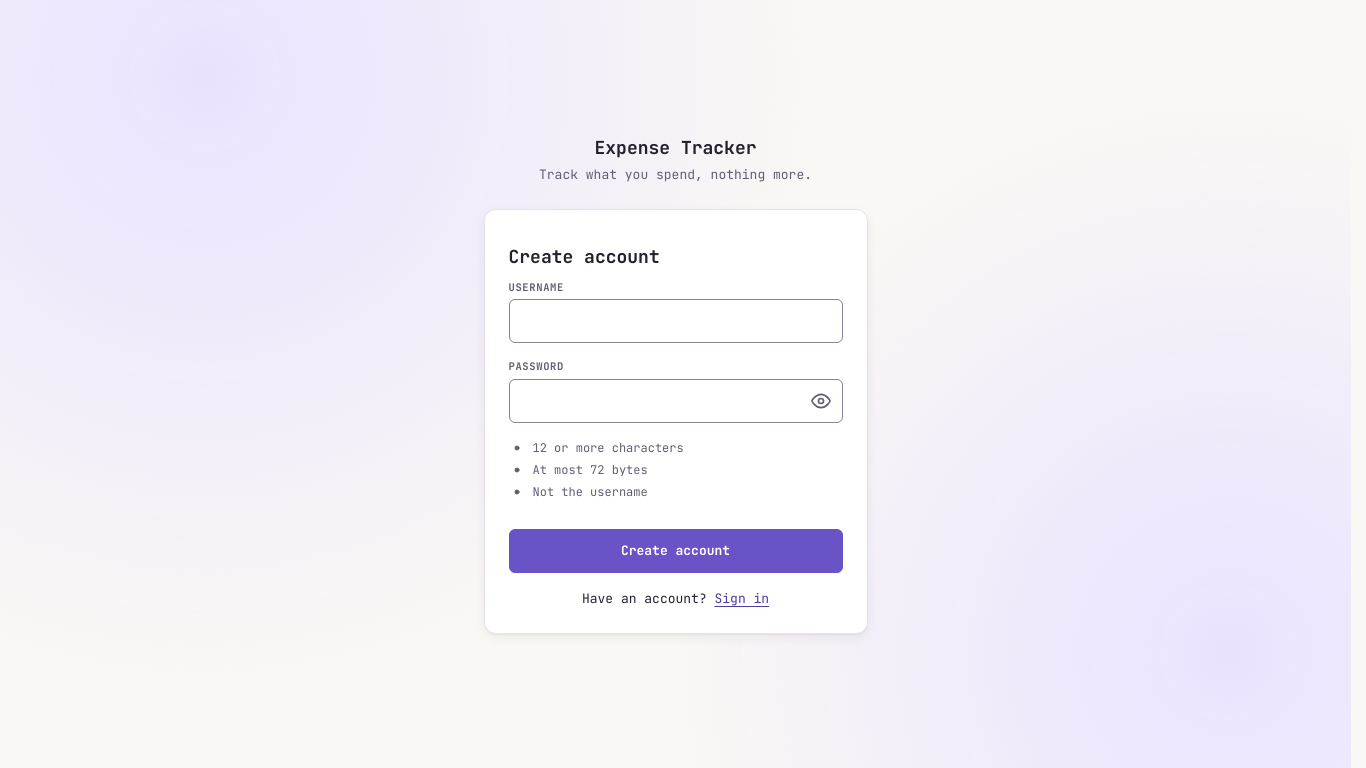
Test: register › shows INVALID_USERNAME on the username field
Expected: the heading "Create account" is shown, [508,245,660,268]
Step 1. Type "carol" into the field labelled "Username" → (676, 321), box [508,299,842,343]
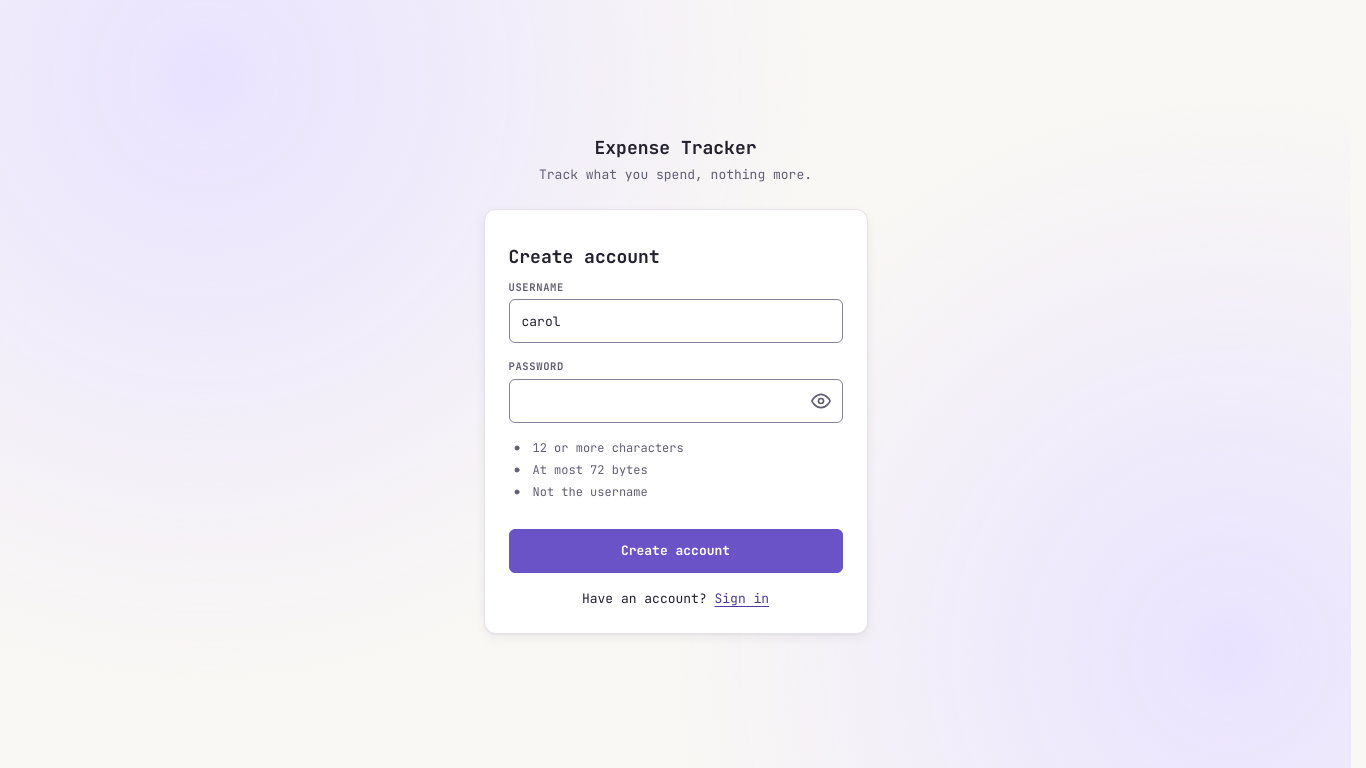
Step 2. Type "a-long-password" into the password field labelled "Password" → (676, 401), box [508,379,842,423]
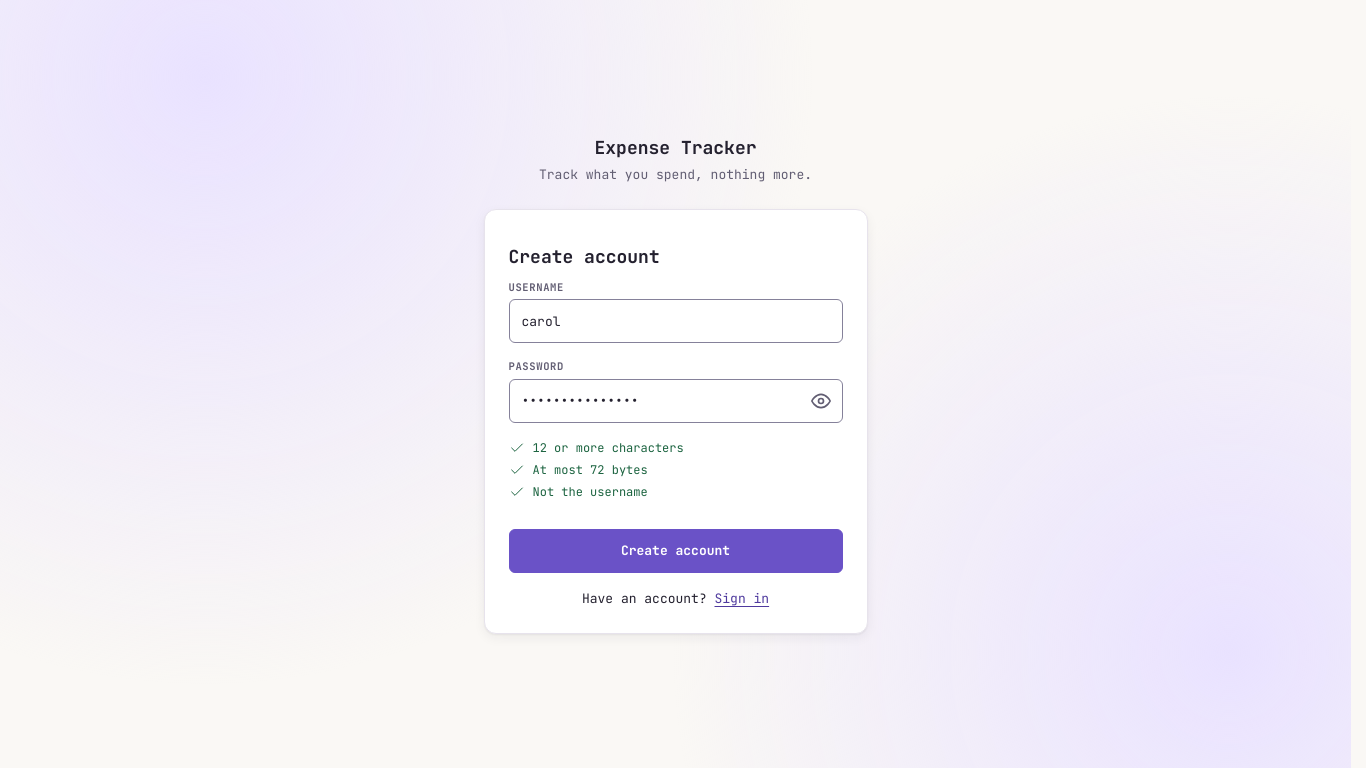
Step 3. Click the button "Create account" → click(676, 551), box [508,529,842,573]
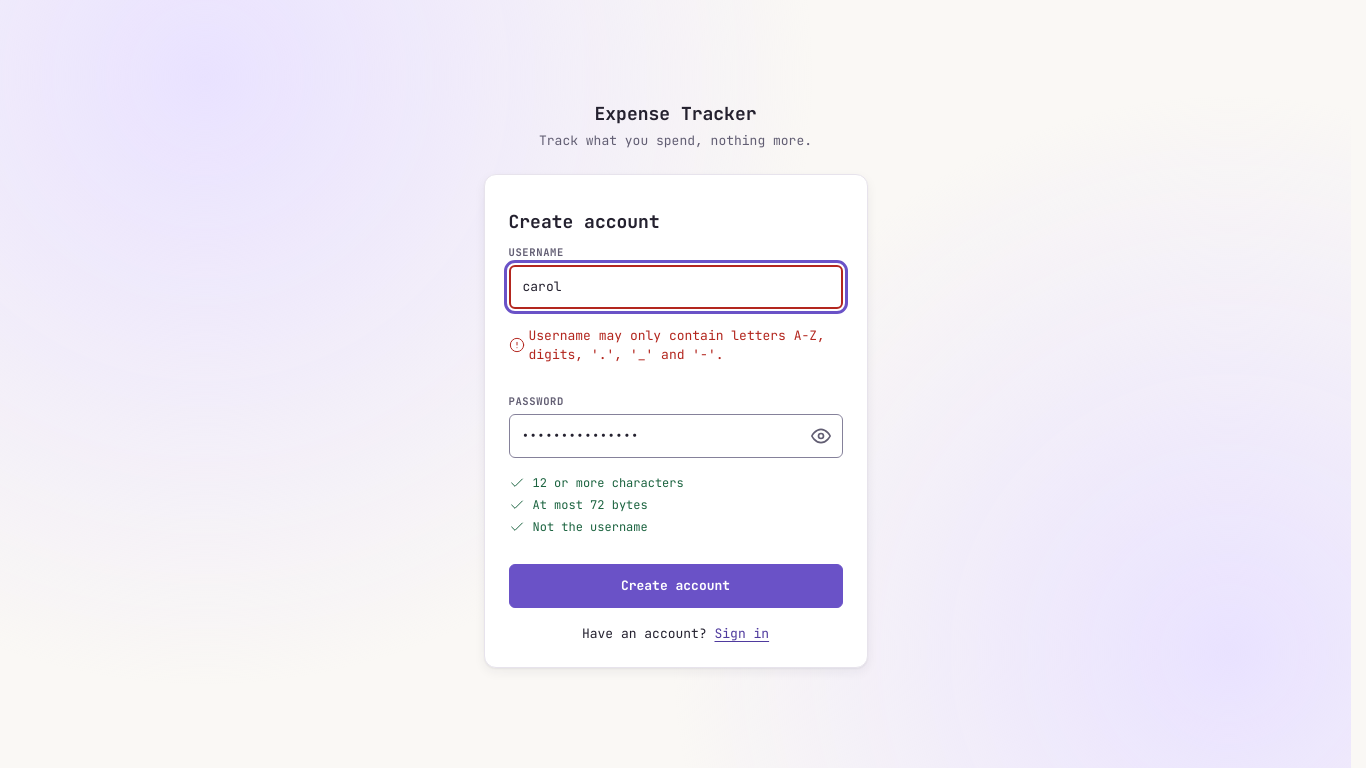
Expected: the text "Username may only contain letters A-Z, digits, '.', '_' and '-'." is shown, [508,326,842,365]
